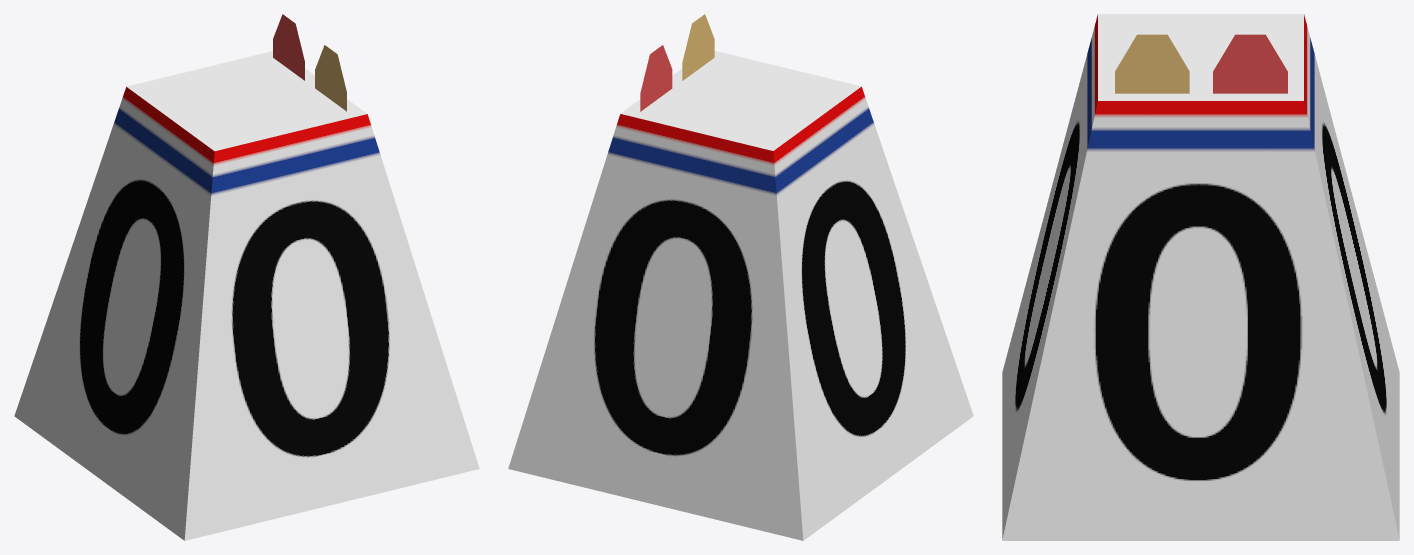
Rendered from Marker_Line0.FBX.
3 views of the same model, side by side, from view 1: azimuth 30°, elevation 25°; view 2: azimuth 150°, elevation 25°; view 3: azimuth 270°, elevation 25° (orthographic). The views are drawn at different scales.
Parts seen in each view (by area): view 1: Marker_Line0; view 2: Marker_Line0; view 3: Marker_Line0.
Part boxes in pixels (box(x1,y1,x2,y2)): Marker_Line0: box(14, 14, 479, 540); Marker_Line0: box(508, 14, 973, 540); Marker_Line0: box(1002, 14, 1399, 540).
Size of the model in its own units: 6.76 by 8.6 by 6.76.
